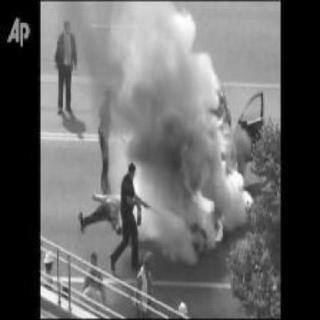Fire: (174, 163, 234, 243)
